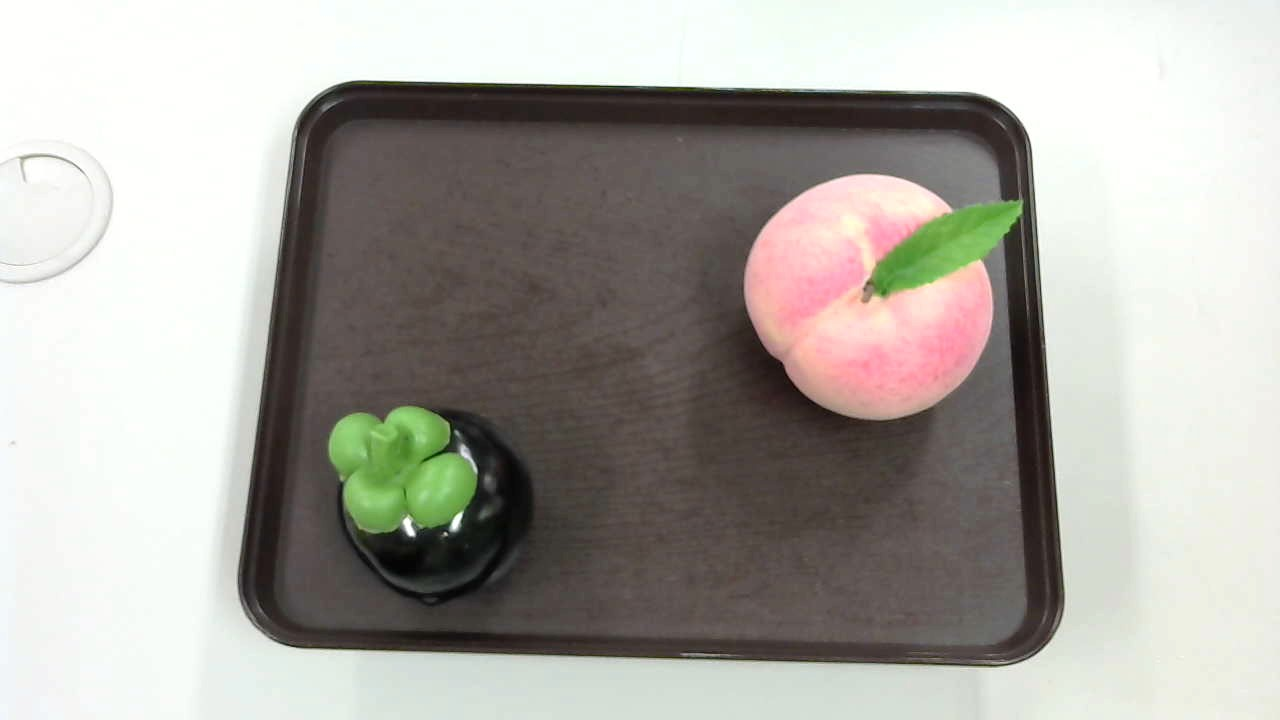mangosteen: (321, 398, 542, 602)
peach: (744, 165, 1026, 423)
